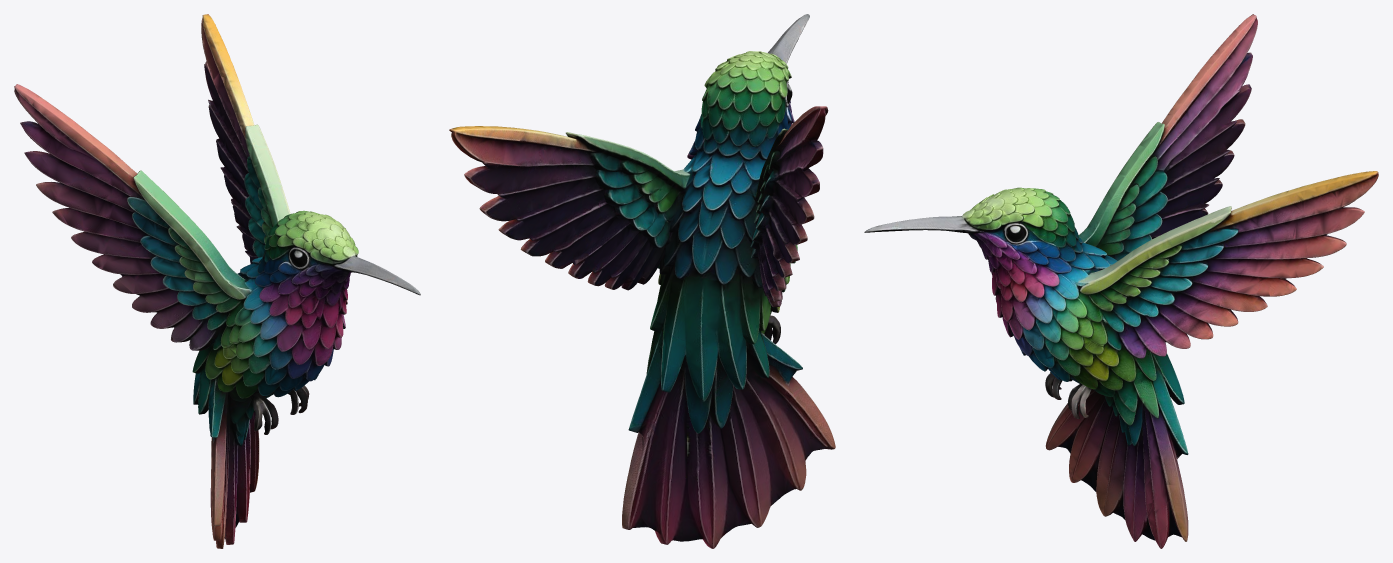
The model's file is colibri.glb.
The picture shows the model from 3 angles, left to right: view 1: azimuth 30°, elevation 25°; view 2: azimuth 150°, elevation 25°; view 3: azimuth 270°, elevation 25°; orthographic projection. The views are drawn at different scales.
Visible parts, largest first — view 1: tripo_node_4331fc95-37c2-49ea-b6b6-a49c532d0456; view 2: tripo_node_4331fc95-37c2-49ea-b6b6-a49c532d0456; view 3: tripo_node_4331fc95-37c2-49ea-b6b6-a49c532d0456.
Part boxes in pixels (x1,y1,x2,y2): tripo_node_4331fc95-37c2-49ea-b6b6-a49c532d0456: [14, 14, 420, 548]; tripo_node_4331fc95-37c2-49ea-b6b6-a49c532d0456: [449, 14, 835, 548]; tripo_node_4331fc95-37c2-49ea-b6b6-a49c532d0456: [864, 14, 1378, 548].
Size of the model in its own units: 0.1185 by 0.2 by 0.2065.
1 material, 1 textured.
